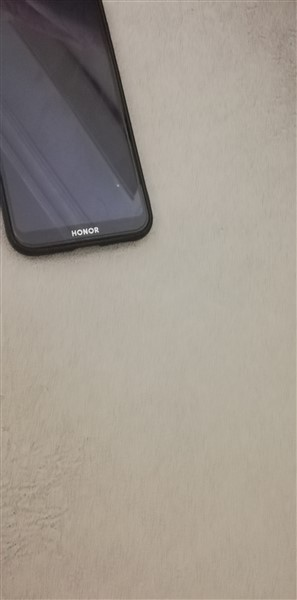telefon: (2, 1, 155, 262)
